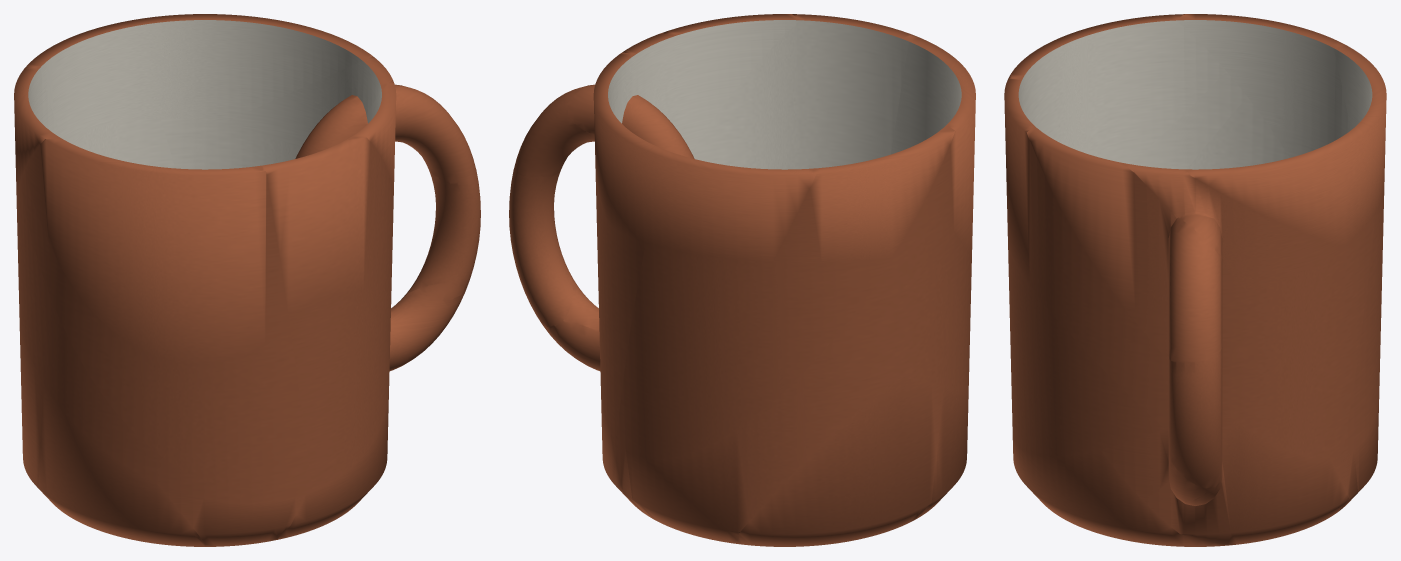
File: fragments.glb
3 views of the same model, side by side, from view 1: azimuth 30°, elevation 25°; view 2: azimuth 150°, elevation 25°; view 3: azimuth 270°, elevation 25° (orthographic).
Parts seen in each view (by area): view 1: fragment-006-terracotta, fragment-016-terracotta, fragment-022-ivory, fragment-011-terracotta, fragment-010-terracotta, fragment-017-terracotta, fragment-018-terracotta, fragment-015-terracotta, fragment-014-ivory, fragment-003-terracotta, fragment-009-ivory, fragment-012-terracotta (+8 smaller); view 2: fragment-008-terracotta, fragment-011-ivory, fragment-022-terracotta, fragment-019-terracotta, fragment-013-terracotta, fragment-017-terracotta, fragment-023-terracotta, fragment-015-ivory, fragment-003-terracotta, fragment-009-terracotta, fragment-006-terracotta, fragment-006-ivory (+9 smaller); view 3: fragment-009-terracotta, fragment-015-terracotta, fragment-006-ivory, fragment-011-terracotta, fragment-010-terracotta, fragment-022-terracotta, fragment-020-terracotta, fragment-023-ivory, fragment-014-terracotta, fragment-007-terracotta, fragment-003-terracotta, fragment-008-terracotta (+9 smaller).
Boxes of the visible parts, box(x1,y1,x2,y2) form: fragment-006-terracotta: box(25, 139, 290, 364); fragment-016-terracotta: box(20, 170, 309, 487); fragment-022-ivory: box(40, 20, 362, 140); fragment-011-terracotta: box(253, 137, 393, 314); fragment-010-terracotta: box(288, 289, 391, 491); fragment-017-terracotta: box(17, 183, 312, 502); fragment-018-terracotta: box(38, 384, 206, 546); fragment-015-terracotta: box(329, 80, 477, 197); fragment-014-ivory: box(221, 61, 380, 148); fragment-003-terracotta: box(403, 170, 480, 297); fragment-009-ivory: box(160, 118, 300, 169); fragment-012-terracotta: box(156, 482, 305, 546); fragment-008-terracotta: box(616, 242, 892, 458); fragment-011-ivory: box(691, 20, 908, 169); fragment-022-terracotta: box(593, 52, 816, 262); fragment-019-terracotta: box(736, 375, 943, 546); fragment-013-terracotta: box(626, 354, 901, 543); fragment-017-terracotta: box(830, 224, 969, 390); fragment-023-terracotta: box(774, 125, 955, 262); fragment-015-ivory: box(644, 20, 800, 152); fragment-003-terracotta: box(509, 169, 572, 326); fragment-009-terracotta: box(596, 212, 645, 439); fragment-006-terracotta: box(909, 34, 975, 260); fragment-006-ivory: box(891, 41, 961, 154); fragment-009-terracotta: box(1126, 213, 1375, 457); fragment-015-terracotta: box(1026, 126, 1247, 363); fragment-006-ivory: box(1023, 20, 1226, 164); fragment-011-terracotta: box(1004, 76, 1168, 428); fragment-010-terracotta: box(1008, 244, 1164, 455); fragment-022-terracotta: box(1186, 43, 1386, 246); fragment-020-terracotta: box(1144, 421, 1348, 544); fragment-023-ivory: box(1176, 20, 1350, 140); fragment-014-terracotta: box(1122, 163, 1342, 292); fragment-007-terracotta: box(1013, 435, 1232, 546); fragment-003-terracotta: box(1168, 347, 1222, 488); fragment-008-terracotta: box(1342, 188, 1384, 454).
Bounding box in the file's own units: 0.12 × 0.1004 × 0.0908.
Materials: 3 (3 with a texture image).
